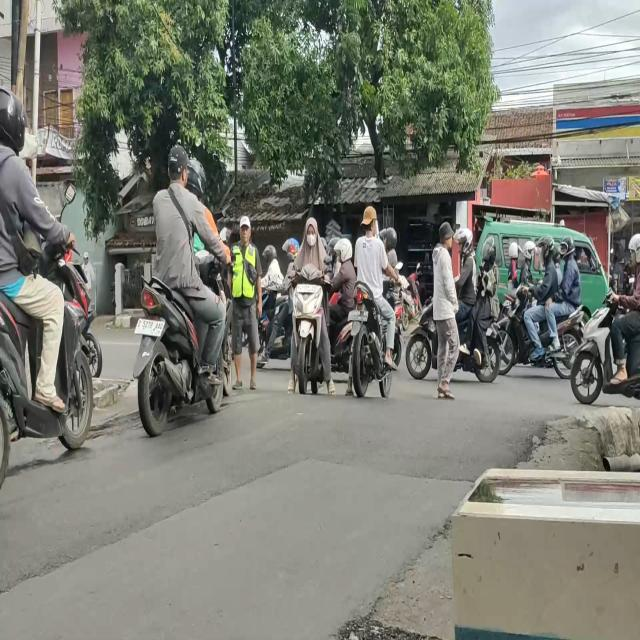helmet: (0, 88, 27, 148), (191, 158, 206, 196), (457, 227, 474, 252), (336, 237, 351, 261), (483, 237, 495, 264), (381, 228, 397, 248), (286, 236, 299, 260), (562, 236, 576, 258), (630, 234, 640, 264), (540, 236, 555, 256), (524, 240, 536, 260), (264, 246, 276, 263), (509, 244, 519, 258)
no-helmet: (169, 148, 190, 186), (362, 205, 377, 237), (304, 217, 318, 246)
